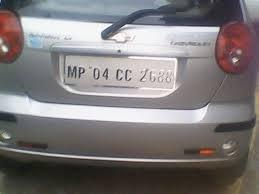Liscence Plate: (65, 53, 178, 94)
